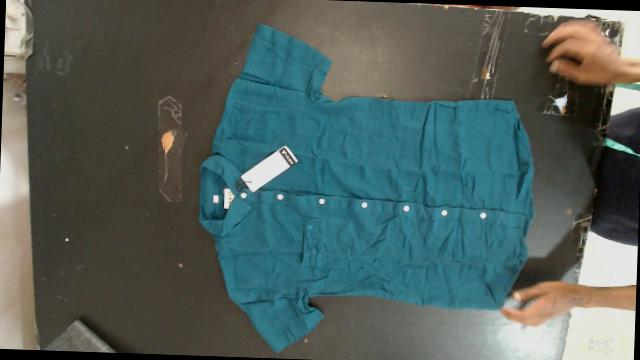new-garment: (199, 24, 534, 351)
